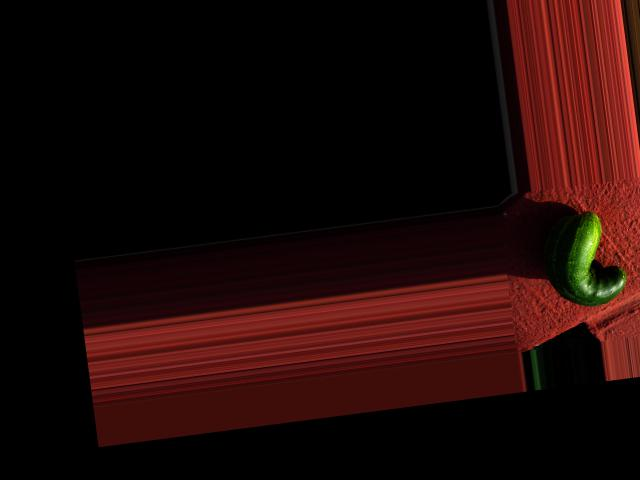cucumber: (538, 207, 630, 311)
